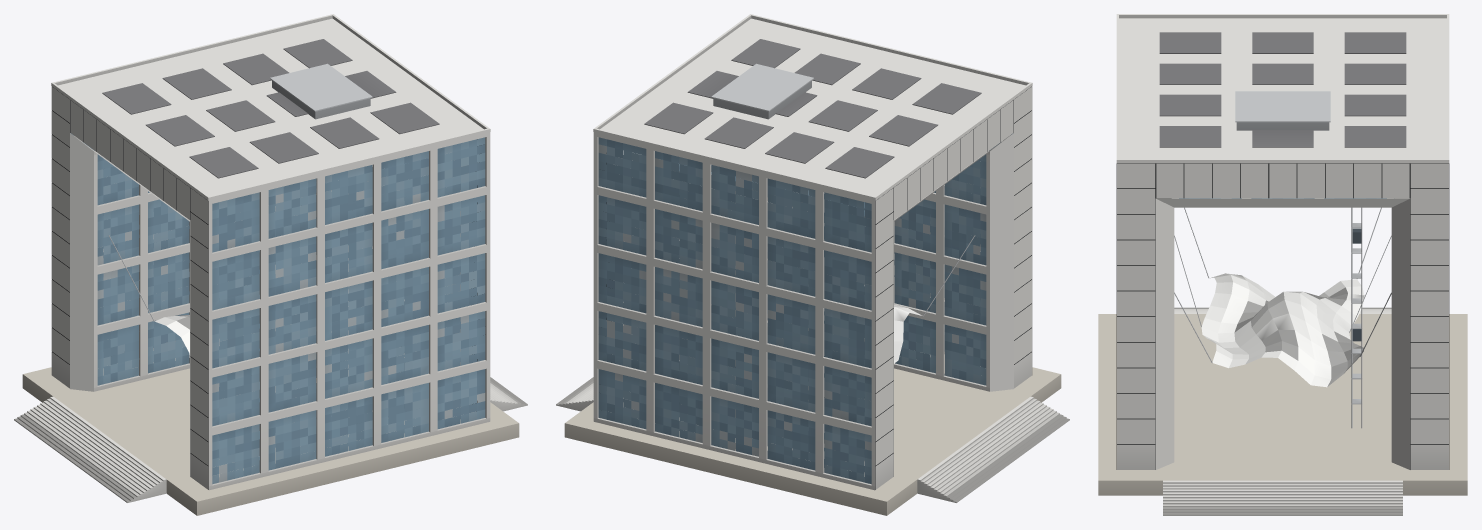
Rendered from arche.glb.
3 views of the same model, side by side, from view 1: azimuth 30°, elevation 25°; view 2: azimuth 150°, elevation 25°; view 3: azimuth 270°, elevation 25° (orthographic). The views are drawn at different scales.
Parts seen in each view (by area): view 1: arche; view 2: arche; view 3: arche.
Part boxes in pixels (x1=…): arche: x1=14, y1=14, x2=527, y2=515; arche: x1=556, y1=14, x2=1069, y2=515; arche: x1=1098, y1=14, x2=1467, y2=515.
Size of the model in its own units: 159 by 119 by 120.
